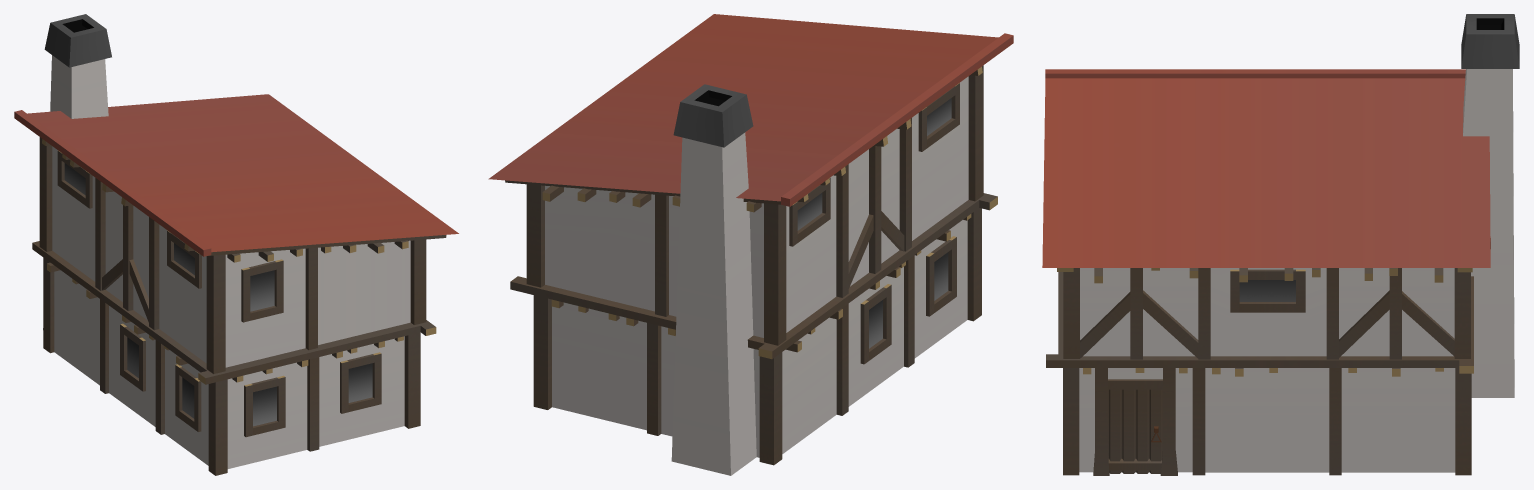
File: House_7_LOD1.fbx
3 renders of one model, left to right at view 1: azimuth 30°, elevation 25°; view 2: azimuth 150°, elevation 25°; view 3: azimuth 270°, elevation 25°, orthographic. The views are drawn at different scales.
Visible parts, largest first — view 1: polySurface9616; view 2: polySurface9616; view 3: polySurface9616.
Boxes of the visible parts, x1,y1,x2,y2 form: polySurface9616: (14,14,458,475); polySurface9616: (488,14,1013,475); polySurface9616: (1042,14,1519,475).
Bounding box in the file's own units: 810 × 929 × 1119.
